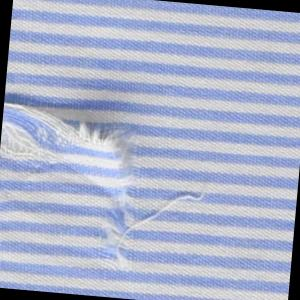Damage: (1, 98, 221, 279)
